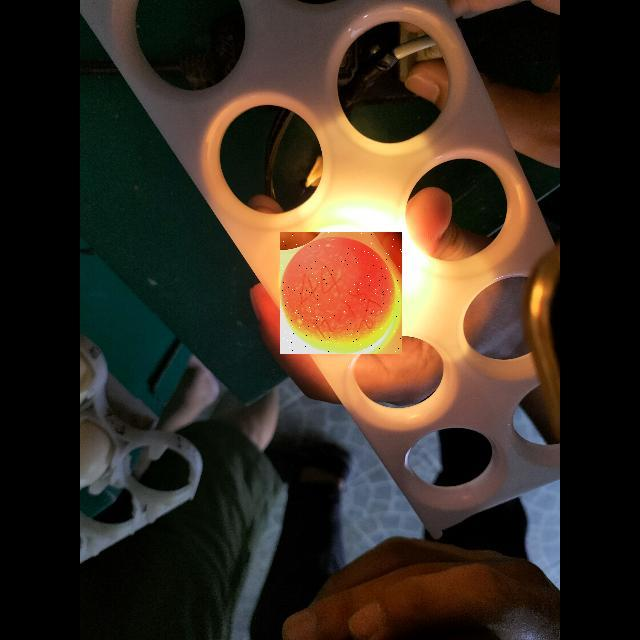Infertile: (280, 232, 402, 354)
